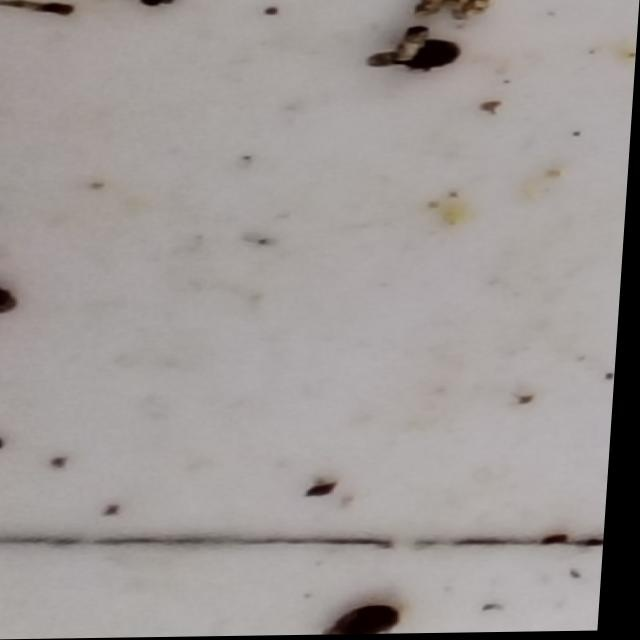varroa: (336, 606, 408, 637), (405, 40, 464, 76), (1, 283, 28, 315)
